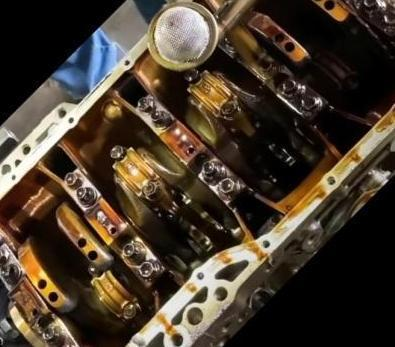hole: (210, 283, 231, 304), (167, 328, 188, 347), (325, 172, 338, 186), (259, 236, 272, 249), (195, 269, 206, 281), (65, 114, 76, 125), (8, 171, 19, 181), (122, 58, 132, 68)
